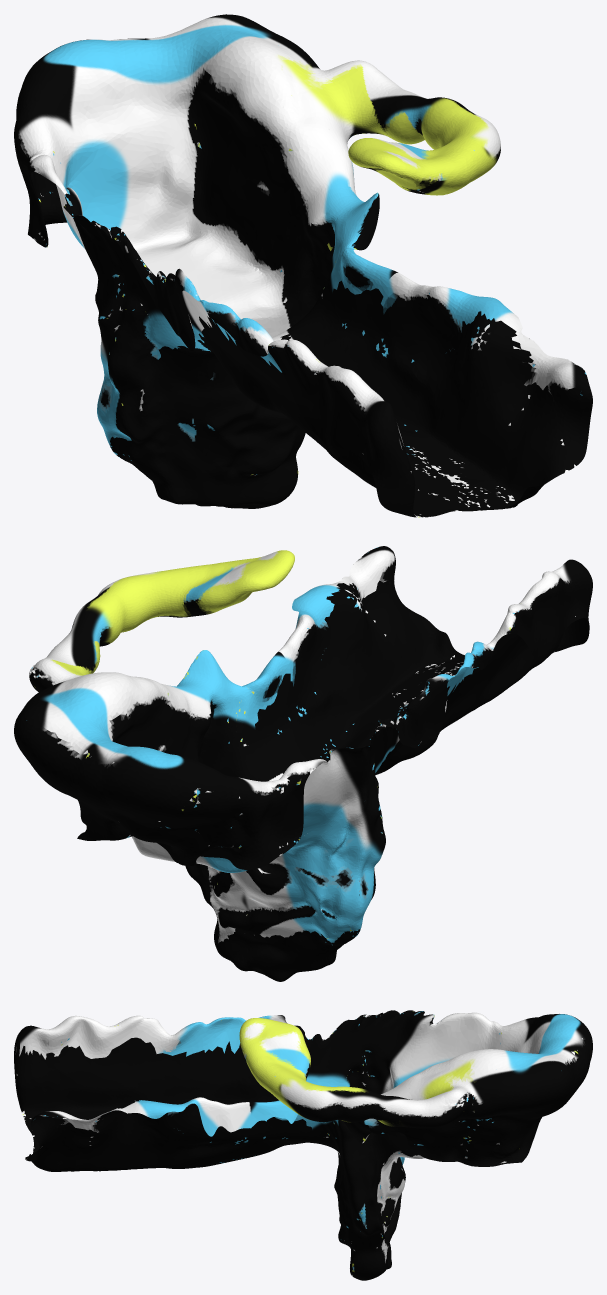
File: snow_terrain.glb
The picture shows the model from 3 angles, top to bottom: view 1: azimuth 30°, elevation 25°; view 2: azimuth 150°, elevation 25°; view 3: azimuth 270°, elevation 25°; orthographic projection. The views are drawn at different scales.
Parts seen in each view (by area): view 1: Plane; view 2: Plane; view 3: Plane.
Part boxes in pixels (x1=…): Plane: x1=14, y1=14, x2=592, y2=517; Plane: x1=14, y1=546, x2=592, y2=981; Plane: x1=14, y1=1010, x2=592, y2=1280.
Bounding box in the file's own units: 3.56 × 3.72 × 7.13.
1 material, 1 textured.
